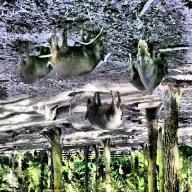boar: (72, 80, 124, 130)
